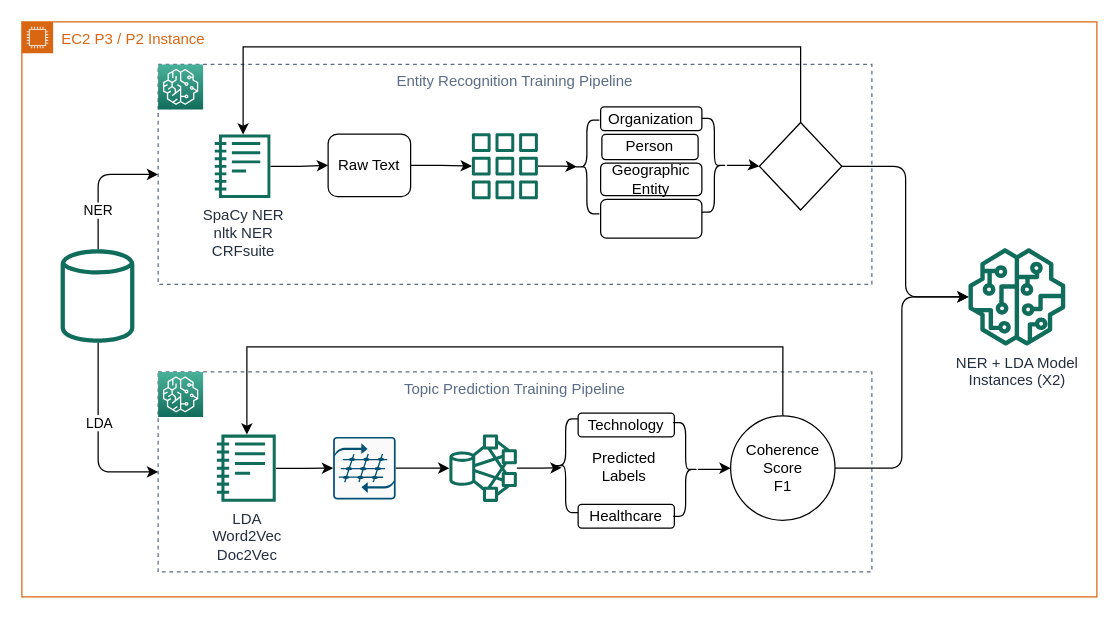
Some shapes in this 1119 by 619 pixel diagram are drawn without their labels. The shapes that lost their labels are listed below. From the top down, each one's centre as x and y in pixels, then its label:
At point 504,165: "Tokenize Lemmatize Stopword Removal".
At point 800,165: "BCE Loss".
At point 650,218: "Geopolitcal Entitiy".
At point 97,295: "S3 Bucket".
At point 364,467: "Word Embedding".
At point 482,467: "Topic Clusters".
